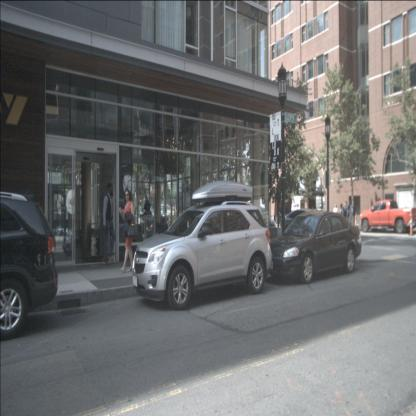human-pedestrian-adult: (119, 188, 138, 272), (102, 183, 118, 265), (348, 201, 356, 235), (344, 200, 350, 234), (340, 204, 346, 235), (333, 204, 338, 235)
movable_object-trafficcone: (409, 214, 414, 236), (354, 212, 357, 226)
vehicle-car: (132, 204, 273, 310), (0, 197, 58, 340), (263, 211, 362, 285), (62, 224, 105, 257), (281, 208, 325, 236), (50, 228, 75, 244), (256, 212, 276, 230)
vehicle-truck: (360, 200, 416, 234)
